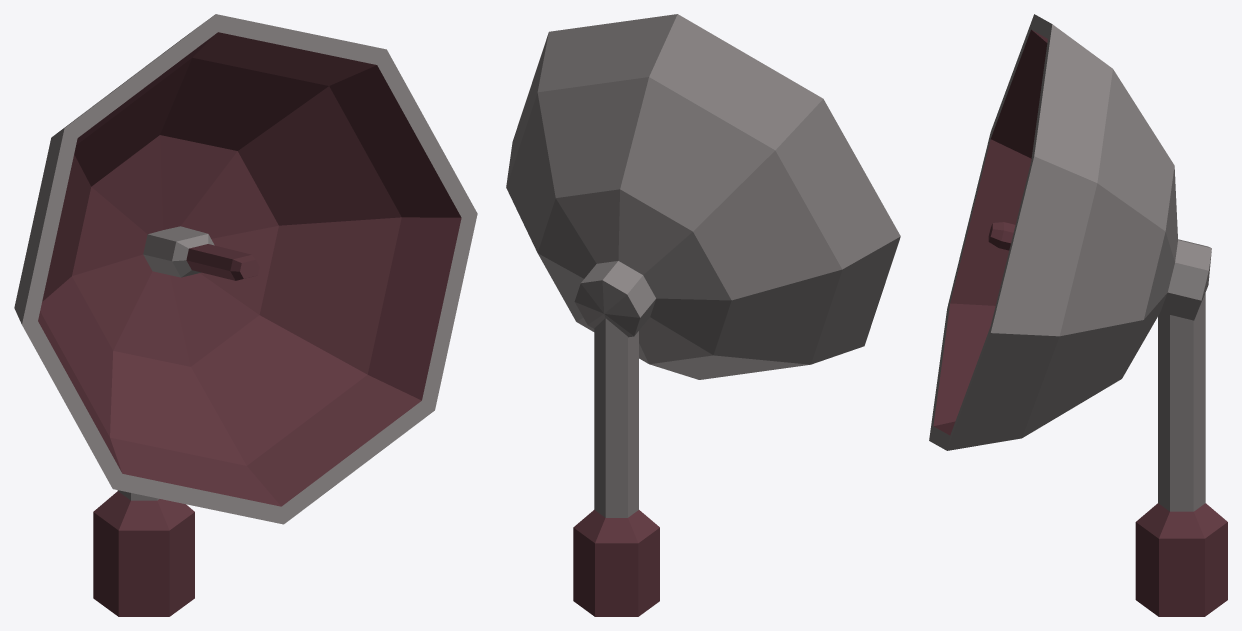
The model's file is scifi-satelit-small.fbx.
The picture shows the model from 3 angles, left to right: view 1: azimuth 30°, elevation 25°; view 2: azimuth 150°, elevation 25°; view 3: azimuth 270°, elevation 25°; orthographic projection. The views are drawn at different scales.
Parts seen in each view (by area): view 1: scifi-satelit-small; view 2: scifi-satelit-small; view 3: scifi-satelit-small.
Part boxes in pixels (bbox=[...]): scifi-satelit-small: bbox=[14, 14, 477, 616]; scifi-satelit-small: bbox=[506, 14, 900, 616]; scifi-satelit-small: bbox=[929, 14, 1227, 616].
Bounding box in the file's own units: 1.6 × 2.14 × 1.
